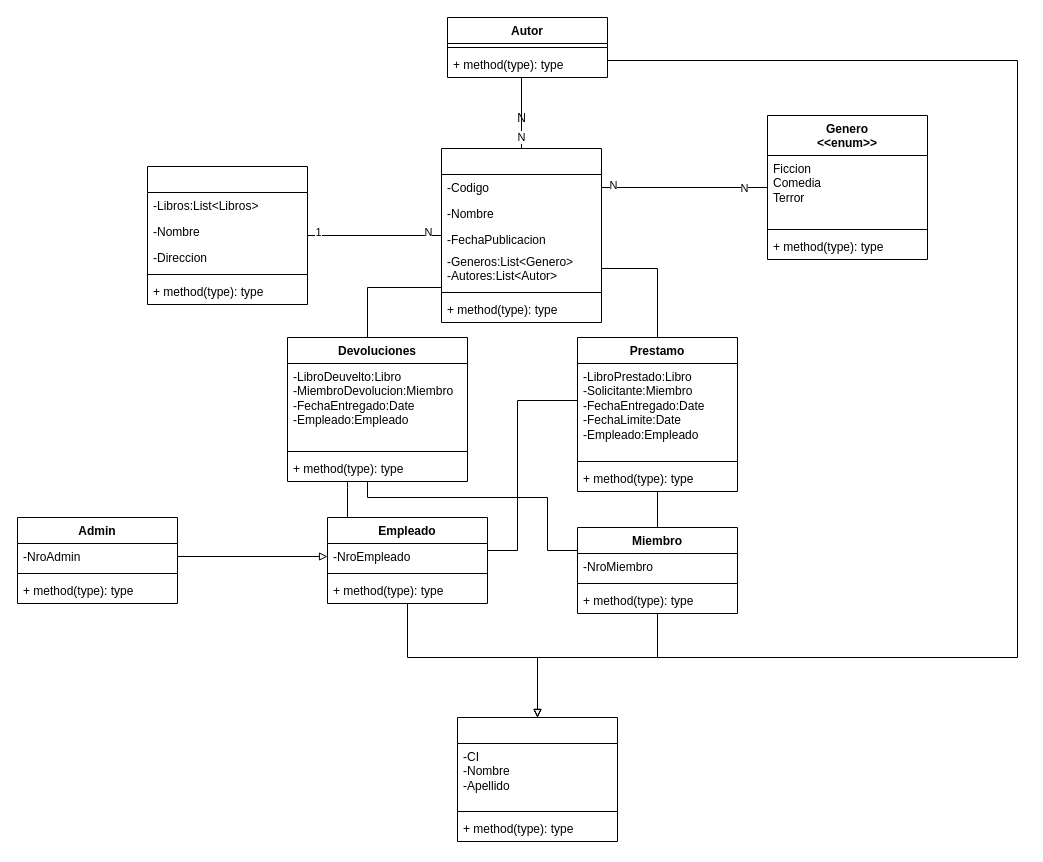
Some shapes in this 1043 by 862 pixel diagram are drawn without their labels. The shapes that lost their labels are listed below. From the top down, each one's box as (x1, y1, x2, y2) in pixels, then its label:
(146, 166, 308, 304): Biblioteca
(440, 148, 602, 322): Libro
(456, 716, 618, 842): Persona
